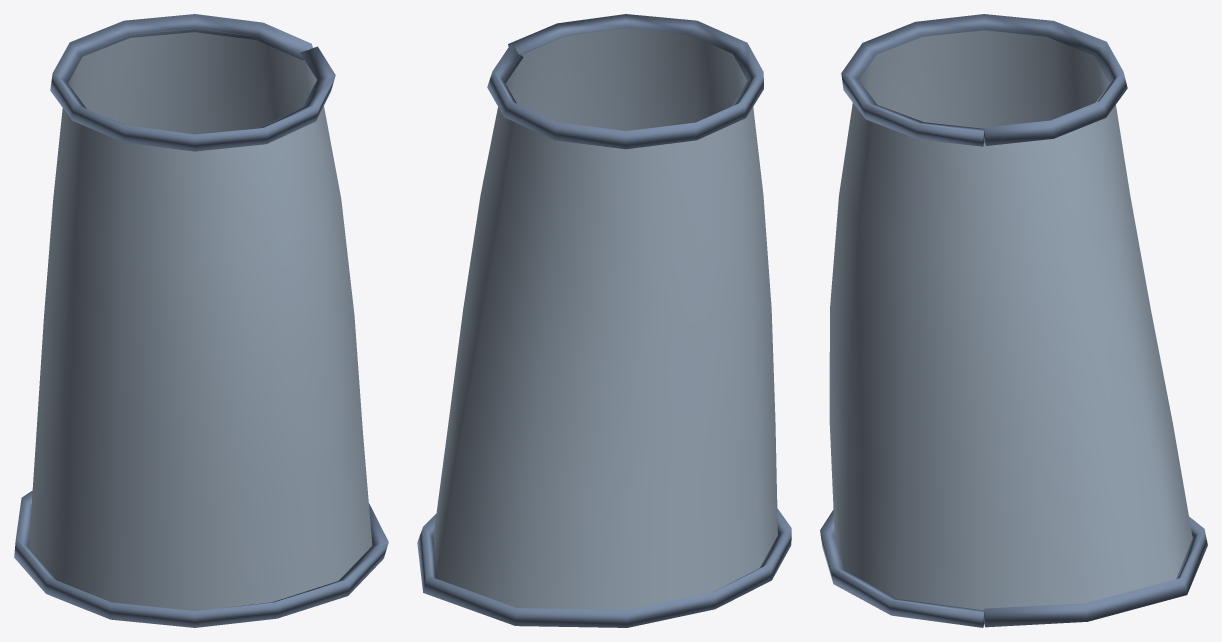
File: titanium_armor_cuisse.L.glb
The picture shows the model from 3 angles, left to right: view 1: azimuth 30°, elevation 25°; view 2: azimuth 150°, elevation 25°; view 3: azimuth 270°, elevation 25°; orthographic projection. The views are drawn at different scales.
Parts seen in each view (by area): view 1: titanium_armor_cuisse.L; view 2: titanium_armor_cuisse.L; view 3: titanium_armor_cuisse.L.
Boxes of the visible parts, x1,y1,x2,y2 form: titanium_armor_cuisse.L: (14, 14, 388, 627); titanium_armor_cuisse.L: (417, 14, 791, 627); titanium_armor_cuisse.L: (820, 14, 1207, 627).
Bounding box in the file's own units: 0.2667 × 0.3856 × 0.2845.
